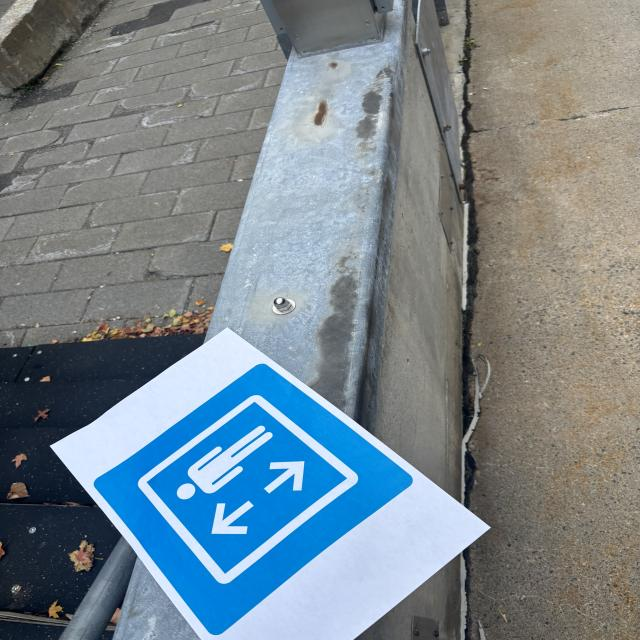elevator: (94, 365, 418, 635)
